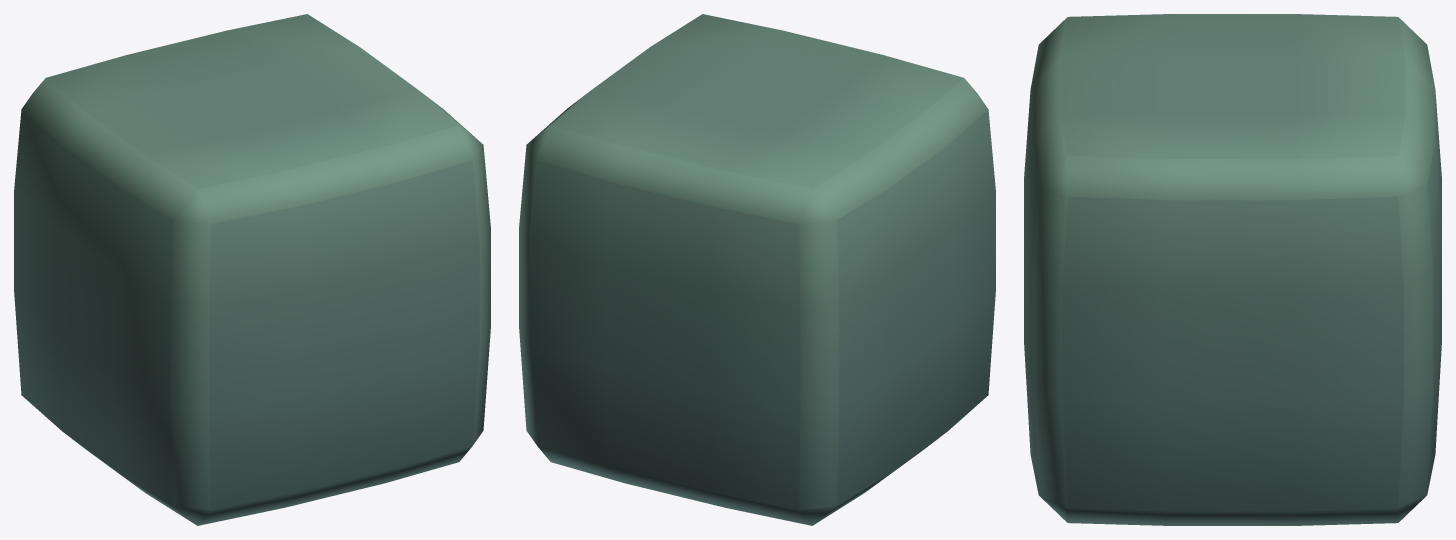
Rendered from cube_04_shade_1_LOD_setup.fbx.
3 renders of one model, left to right at view 1: azimuth 30°, elevation 25°; view 2: azimuth 150°, elevation 25°; view 3: azimuth 270°, elevation 25°, orthographic. The views are drawn at different scales.
Visible parts, largest first — view 1: cube_04_shade_1_LOD0; view 2: cube_04_shade_1_LOD0; view 3: cube_04_shade_1_LOD0.
Boxes of the visible parts, box(x1,y1,x2,y2) form: cube_04_shade_1_LOD0: box(14, 14, 490, 525); cube_04_shade_1_LOD0: box(519, 14, 995, 525); cube_04_shade_1_LOD0: box(1024, 14, 1441, 525).
Size of what is drawn, in the model's own units: 112 by 108 by 112.
